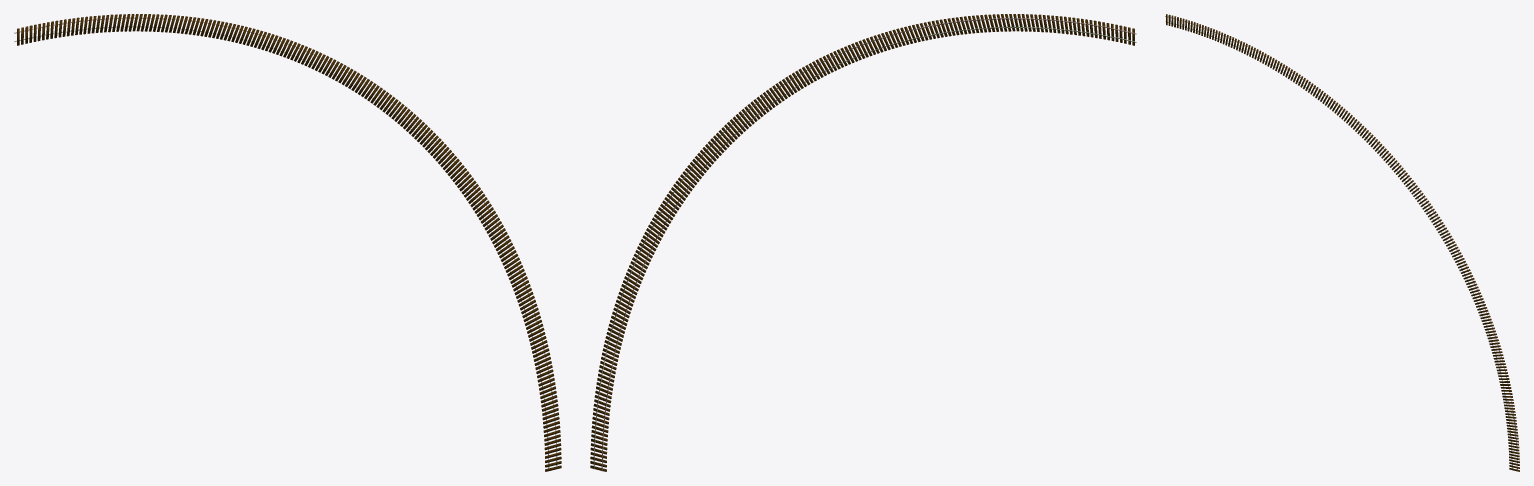
Rendered from Rails_160m_90d.fbx.
The picture shows the model from 3 angles, left to right: view 1: azimuth 30°, elevation 25°; view 2: azimuth 150°, elevation 25°; view 3: azimuth 330°, elevation 25°; orthographic projection. The views are drawn at different scales.
Visible parts, largest first — view 1: LP_Rails_160m_90d; view 2: LP_Rails_160m_90d; view 3: LP_Rails_160m_90d.
Boxes of the visible parts, x1,y1,x2,y2 form: LP_Rails_160m_90d: (14, 14, 561, 471); LP_Rails_160m_90d: (590, 14, 1136, 471); LP_Rails_160m_90d: (1165, 14, 1519, 471).
Size of the model in its own units: 103 by 103 by 0.34.
